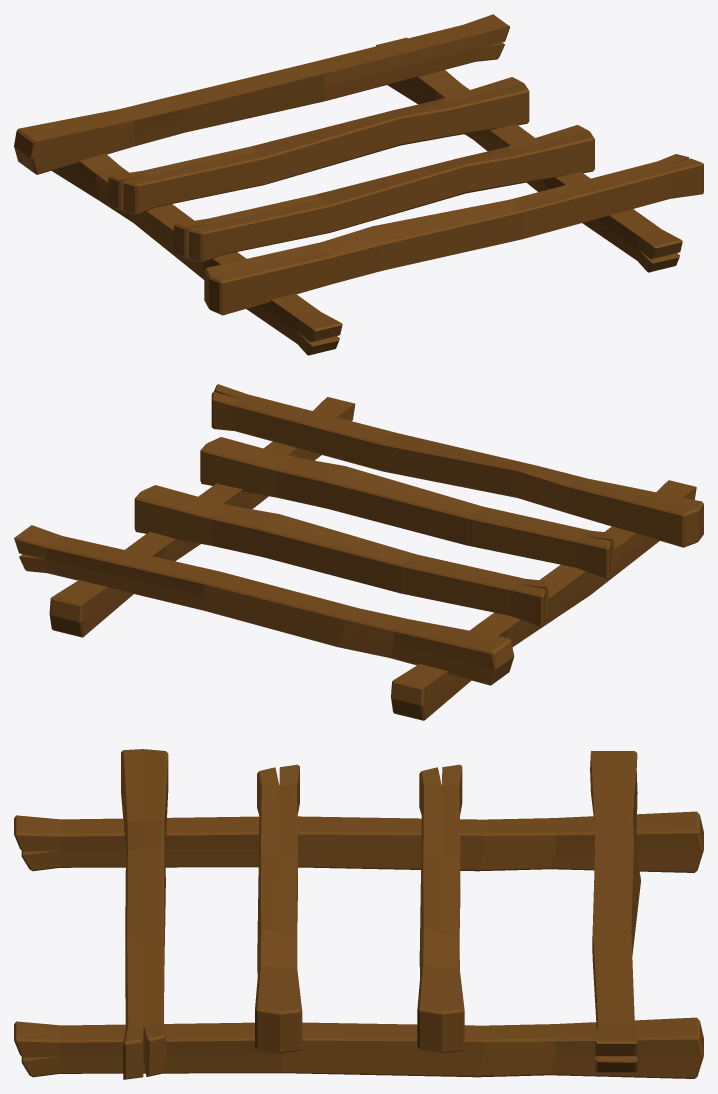
The model's file is Beach_House_Support_01.fbx.
3 renders of one model, top to bottom at view 1: azimuth 30°, elevation 25°; view 2: azimuth 150°, elevation 25°; view 3: azimuth 270°, elevation 25°, orthographic. The views are drawn at different scales.
Parts seen in each view (by area): view 1: Beach_House_Support_01; view 2: Beach_House_Support_01; view 3: Beach_House_Support_01.
Part boxes in pixels (x1,y1,x2,y2): Beach_House_Support_01: (14,14,703,355); Beach_House_Support_01: (14,384,703,720); Beach_House_Support_01: (14,749,703,1079).
Size of the model in its own units: 9.72 by 1.23 by 9.59.
